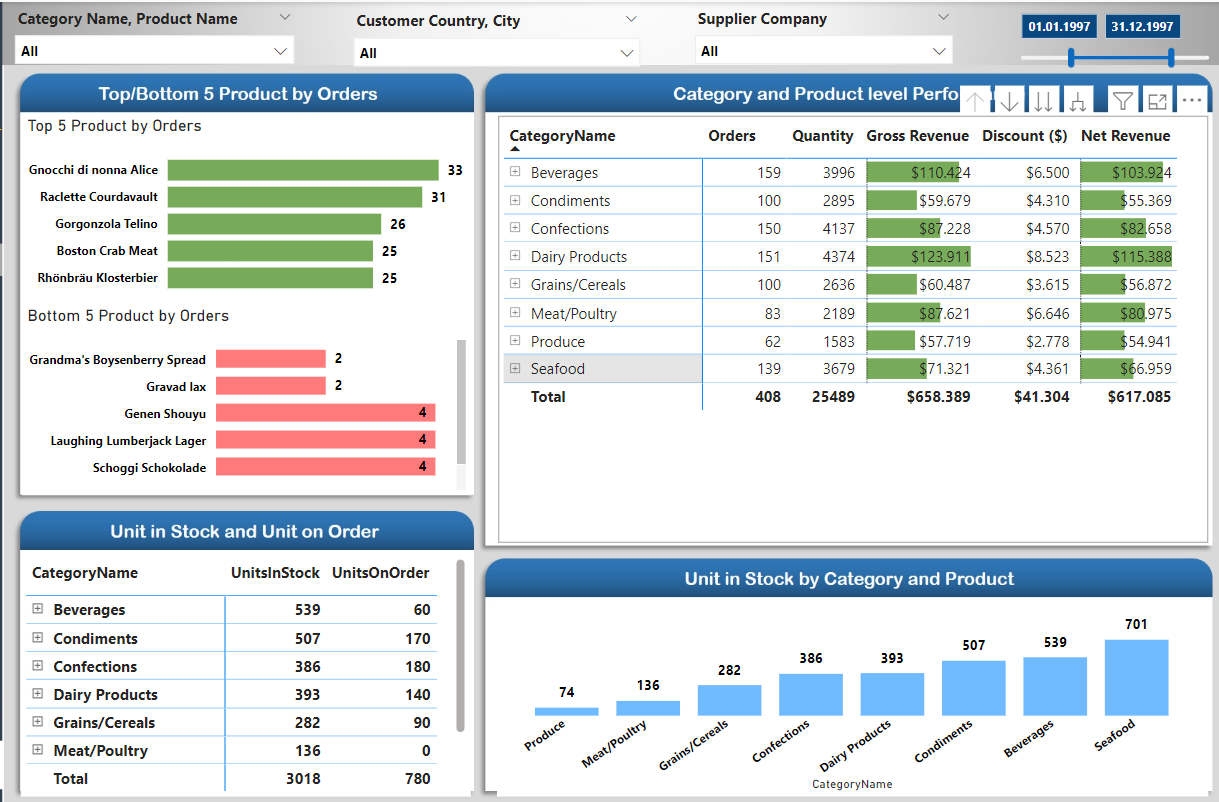

This screenshot's page, from the dashboard's own definition file:
{"tool":"powerbi","page":{"name":"Product and Category","canvas":[1280,720],"ordinal":2},"visuals":[{"type":"pivotTable","fields":{"Rows":["Products.CategoryName","Products.ProductName"],"Values":["Order_Details.Total Orders","Sum(Order_Details.Quantity)","Sum(Order_Details.Gross Revenue)","Sum(Order_Details.Discount ($))","Sum(Order_Details.Net Revenue)"]},"box":[633,101.7,633,380.5],"z":0},{"type":"columnChart","fields":{"Category":["Products.CategoryName","Products.ProductName"],"Y":["Sum(Products.UnitsInStock)"]},"box":[632.1,532.9,633.5,174.3],"z":1000},{"type":"clusteredBarChart","title":"Top 5 Product by Orders","fields":{"Category":["Products.ProductName"],"Y":["Order_Details.Orders"]},"box":[209.5,100.8,400.3,169.1],"z":2000},{"type":"clusteredBarChart","title":"Bottom 5 Product by Orders","fields":{"Category":["Products.ProductName"],"Y":["Order_Details.Orders"]},"box":[209.5,270,400.3,169.1],"z":3000},{"type":"pivotTable","fields":{"Rows":["Products.CategoryName","Products.ProductName"],"Values":["Sum(Products.UnitsInStock)","Sum(Products.UnitsOnOrder)"]},"box":[208.3,490.4,401.1,216.9],"z":4000},{"type":"slicer","fields":{"Values":["Suppliers.CompanyName"]},"box":[797.7,0,249.9,68.6],"z":5000},{"type":"actionButton","box":[0,142,192.9,40.3],"z":6000},{"type":"actionButton","box":[0,284.9,192.8,39.7],"z":7000},{"type":"actionButton","box":[9.9,610.9,42.5,39.7],"z":8000},{"type":"actionButton","box":[75.1,610.9,42.5,39.7],"z":9000},{"type":"actionButton","box":[144.6,609.4,42.5,39.7],"z":10000},{"type":"actionButton","box":[12.8,663.3,165.8,31.2],"z":11000},{"type":"slicer","fields":{"Values":["Order_Details.OrderDate"]},"box":[1086.5,0,192.9,68.6],"z":12000},{"type":"slicer","fields":{"Values":["Products.CategoryName","Products.ProductName"]},"box":[192.2,0,269,68.5],"z":13000},{"type":"slicer","fields":{"Values":["Order_Details.Country","Order_Details.City"]},"box":[494.6,1.7,275.7,68.5],"z":14000},{"type":"image","box":[41,0,103.8,68.8],"z":15000},{"type":"textbox","box":[0,657.5,193,43.4],"z":16000}]}

Visuals, with their boxes on the page's 1280x720 design canvas (x1, y1, x2, y2). These are canvas units, not pixel positions in the 1219x802 screenshot, which may show the page scaled, cropped or inside an application window:
pivotTable - Products.CategoryName x Products.ProductName: <region>633, 102, 1266, 482</region>
columnChart - Products.CategoryName x Products.ProductName: <region>632, 533, 1266, 707</region>
"Top 5 Product by Orders" clusteredBarChart: <region>210, 101, 610, 270</region>
"Bottom 5 Product by Orders" clusteredBarChart: <region>210, 270, 610, 439</region>
pivotTable - Products.CategoryName x Products.ProductName: <region>208, 490, 609, 707</region>
slicer - Suppliers.CompanyName: <region>798, 0, 1048, 69</region>
actionButton: <region>0, 142, 193, 182</region>
actionButton: <region>0, 285, 193, 325</region>
actionButton: <region>10, 611, 52, 651</region>
actionButton: <region>75, 611, 118, 651</region>
actionButton: <region>145, 609, 187, 649</region>
actionButton: <region>13, 663, 179, 694</region>
slicer - Order_Details.OrderDate: <region>1086, 0, 1279, 69</region>
slicer - Products.CategoryName x Products.ProductName: <region>192, 0, 461, 68</region>
slicer - Order_Details.Country x Order_Details.City: <region>495, 2, 770, 70</region>
image: <region>41, 0, 145, 69</region>
textbox: <region>0, 658, 193, 701</region>
